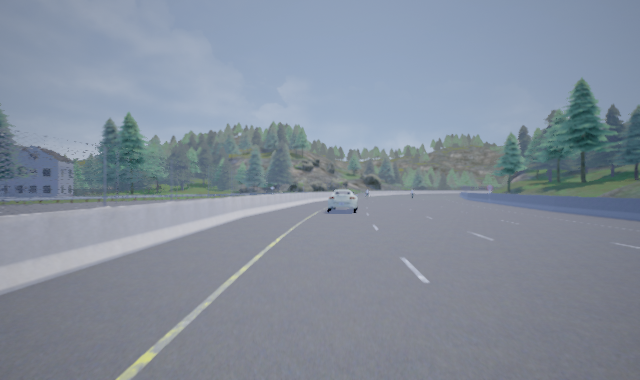vehicle: (325, 189, 358, 213)
